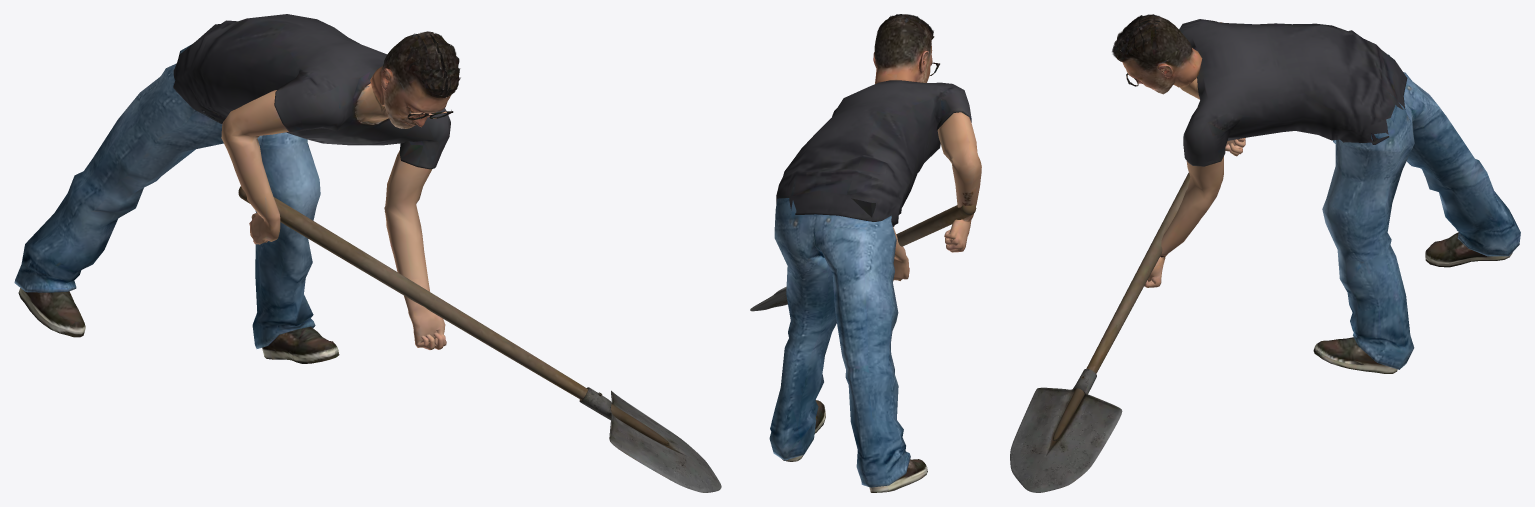
3 renders of one model, left to right at view 1: azimuth 30°, elevation 25°; view 2: azimuth 150°, elevation 25°; view 3: azimuth 270°, elevation 25°, orthographic. The views are drawn at different scales.
Visible parts, largest first — view 1: workv1_w009, workv1_w009_props; view 2: workv1_w009, workv1_w009_props; view 3: workv1_w009, workv1_w009_props.
Part boxes in pixels (left/top/right/bottom): workv1_w009: left=14, top=14, right=460, bottom=363; workv1_w009_props: left=238, top=186, right=721, bottom=492; workv1_w009: left=769, top=14, right=981, bottom=492; workv1_w009_props: left=750, top=204, right=976, bottom=311; workv1_w009: left=1112, top=14, right=1520, bottom=373; workv1_w009_props: left=1010, top=172, right=1190, bottom=492.
Size of the model in its own units: 1.26 by 1.27 by 1.54.
Materials: 2 (2 with a texture image).
